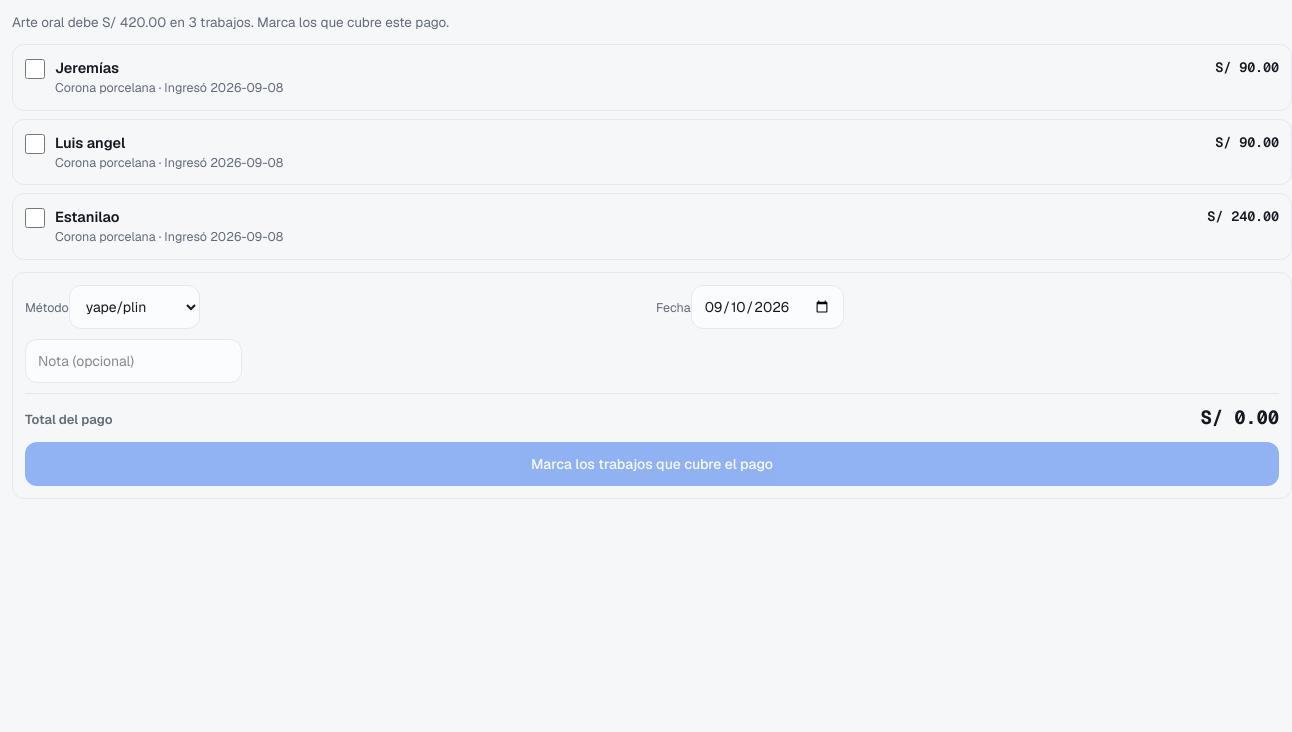
Test: FormularioDeCobro › al marcar, propone cobrar el trabajo entero y suma el total
Click the checkbox labelled "Jeremías Corona porcelana · Ingresó 2026-09-08 S/ 90.00": (35, 69) [25, 59, 45, 79]
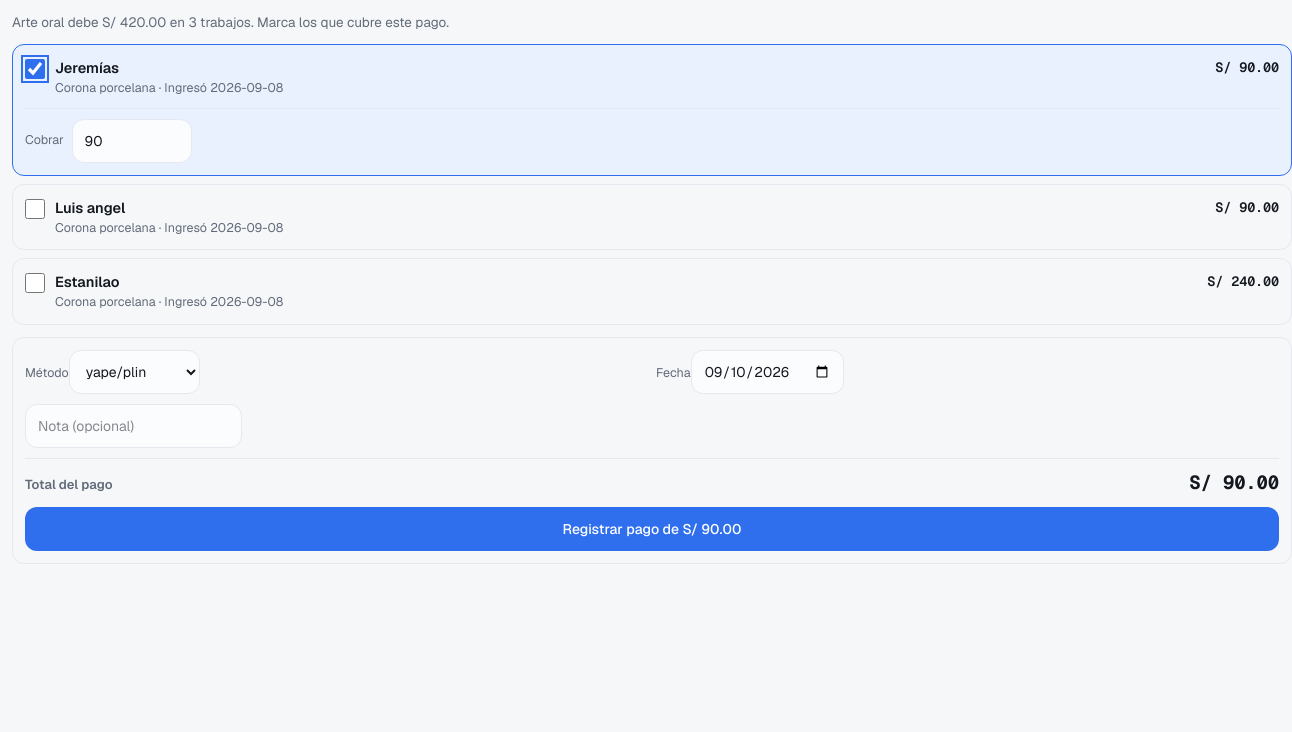
Expected: the button "Registrar pago de S/ 90.00" is shown, [25, 507, 1279, 551]
